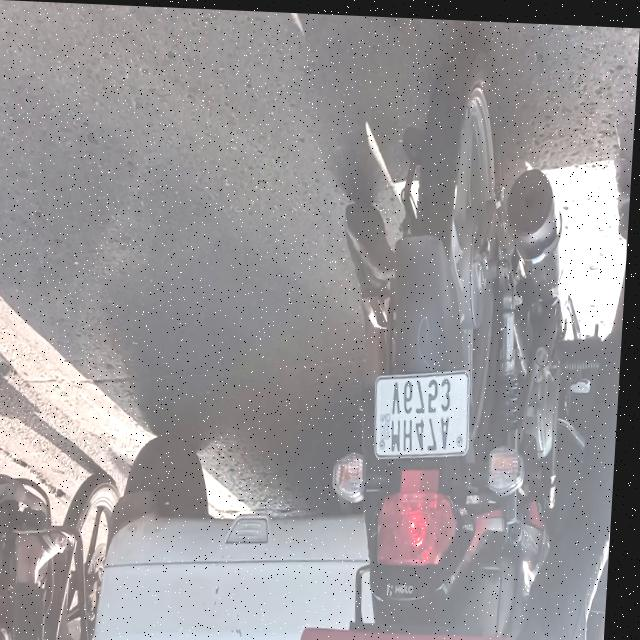plate: (375, 363, 478, 460)
